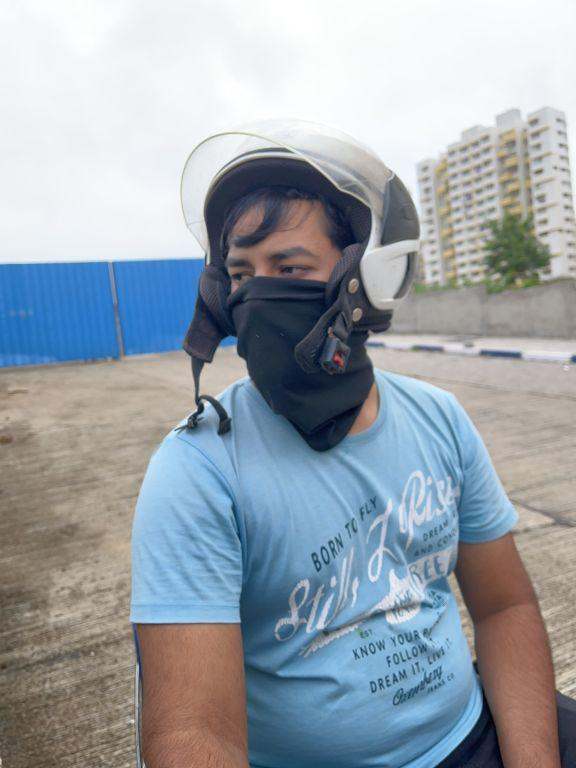helmet: (160, 112, 428, 445)
